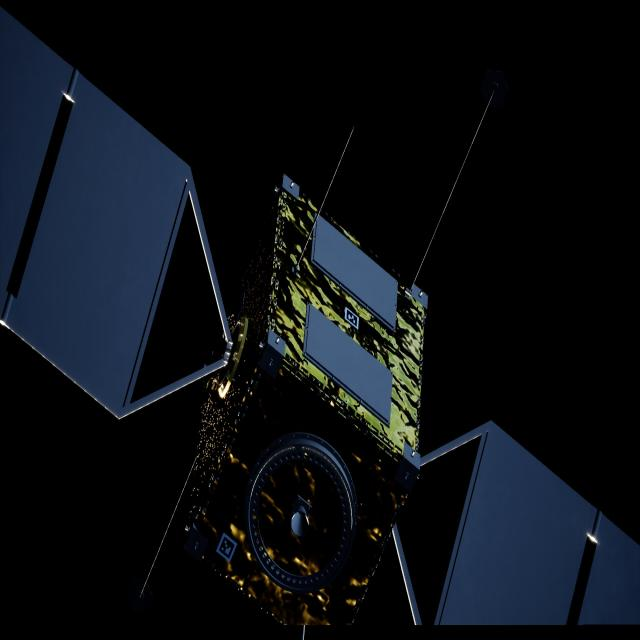medium_debris: (0, 8, 640, 628)
